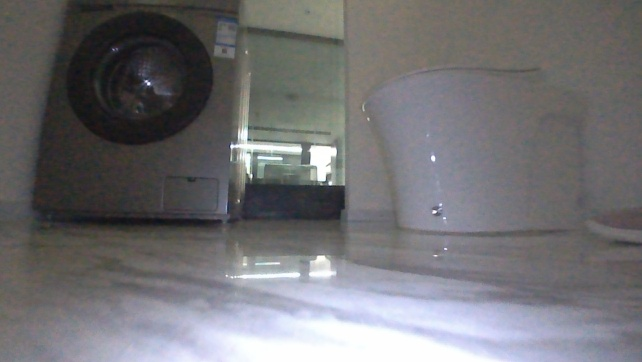toilet: (340, 56, 595, 240)
washing_machine: (29, 1, 249, 236)
